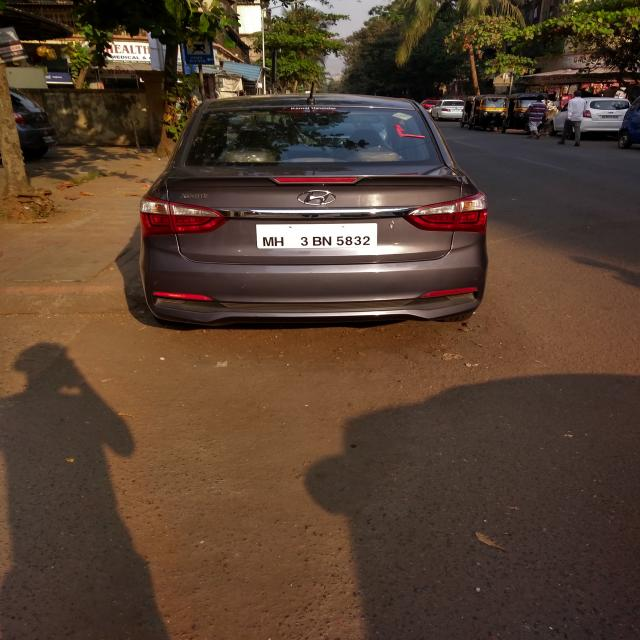Number-Plate: (258, 222, 374, 252)
